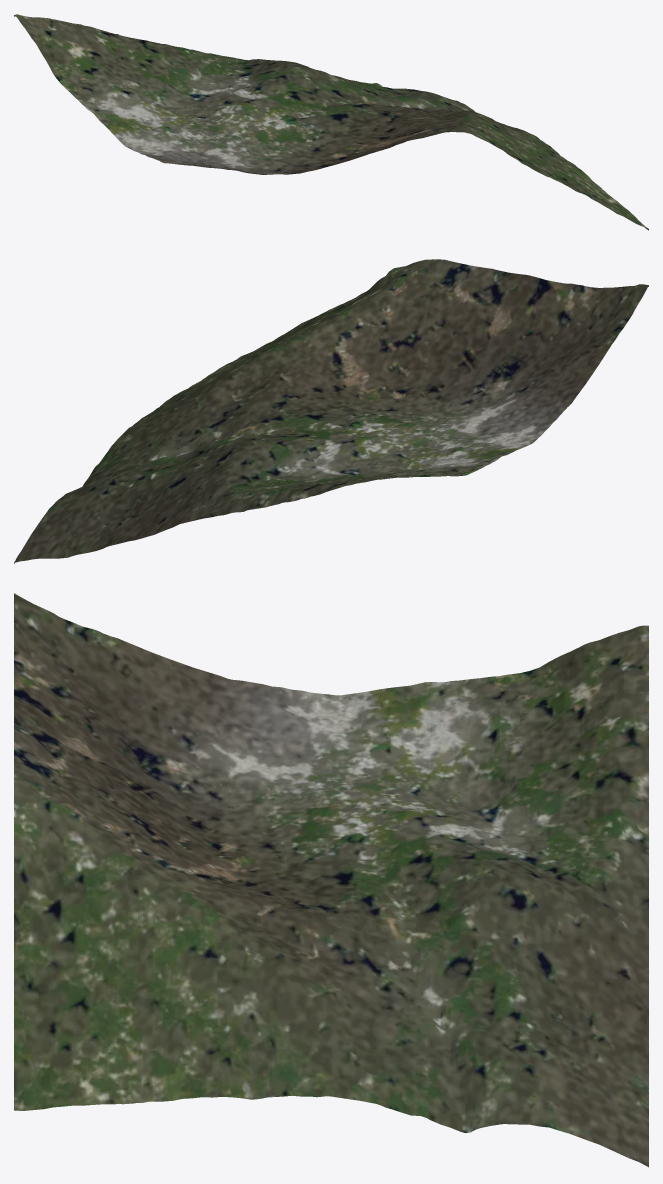
The picture shows the model from 3 angles, top to bottom: view 1: azimuth 30°, elevation 25°; view 2: azimuth 150°, elevation 25°; view 3: azimuth 270°, elevation 25°; orthographic projection. The views are drawn at different scales.
Size of the model in its own units: 250 by 125 by 241.
Materials: 1 (1 with a texture image).
